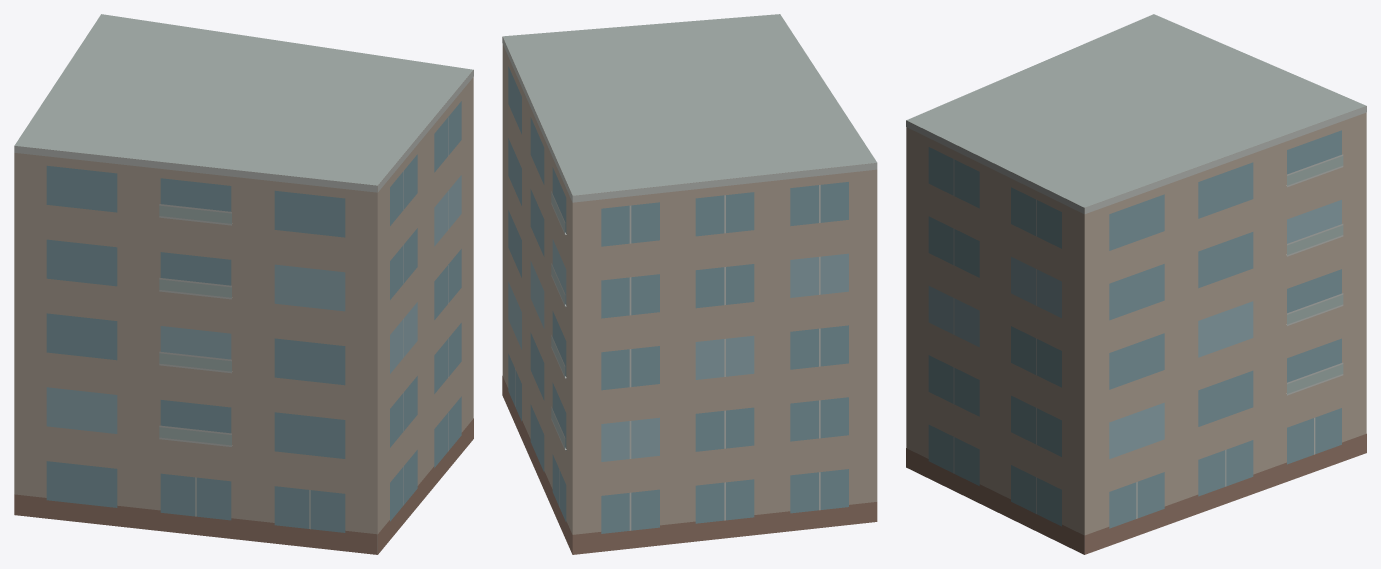
File: survey-upis-33021841.glb
3 renders of one model, left to right at view 1: azimuth 30°, elevation 25°; view 2: azimuth 150°, elevation 25°; view 3: azimuth 270°, elevation 25°, orthographic. The views are drawn at different scales.
Visible parts, largest first — view 1: survey-upis-33021841.tmp; view 2: survey-upis-33021841.tmp; view 3: survey-upis-33021841.tmp.
Part boxes in pixels (<box>): survey-upis-33021841.tmp: <box>14,14,473,554</box>; survey-upis-33021841.tmp: <box>502,14,877,554</box>; survey-upis-33021841.tmp: <box>906,14,1366,554</box>.
Bounding box in the file's own units: 15.39 × 12.85 × 15.46.
